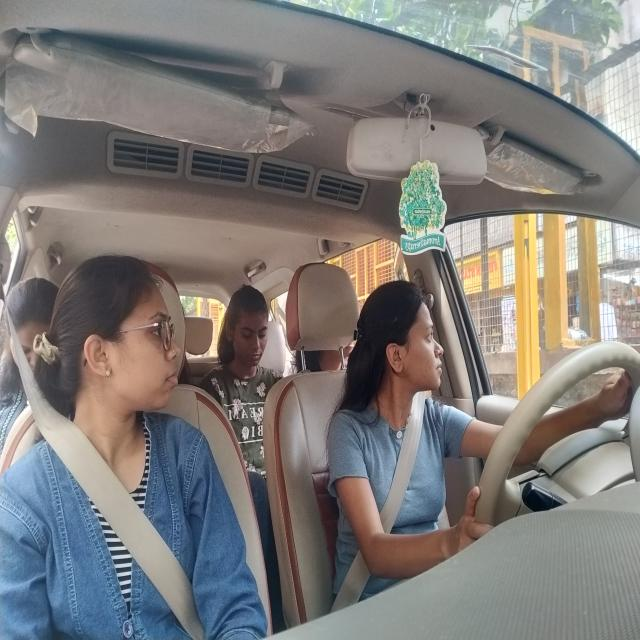LeftRight: (346, 260, 457, 437)
person: (52, 224, 200, 431), (215, 270, 276, 408), (7, 257, 57, 389)
